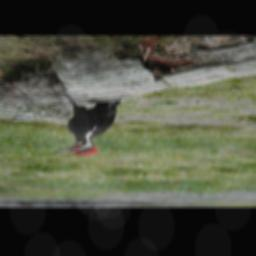Woodpecker: (53, 96, 122, 159)
